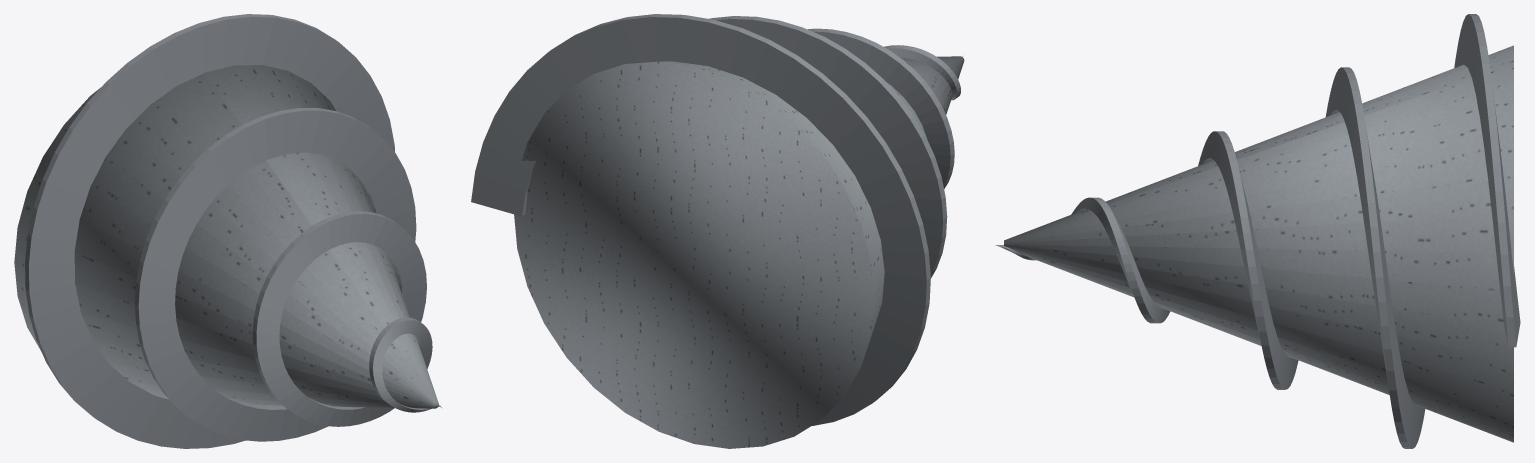
Rendered from drill_attack.glb.
The picture shows the model from 3 angles, left to right: view 1: azimuth 30°, elevation 25°; view 2: azimuth 150°, elevation 25°; view 3: azimuth 270°, elevation 25°; orthographic projection. The views are drawn at different scales.
Parts seen in each view (by area): view 1: drill_attack; view 2: drill_attack; view 3: drill_attack.
Part boxes in pixels (<box>): drill_attack: <box>14,14,442,448</box>; drill_attack: <box>471,14,964,448</box>; drill_attack: <box>995,14,1520,448</box>.
Size of the model in its own units: 1.55 by 1.47 by 1.76.
1 material, 1 textured.
